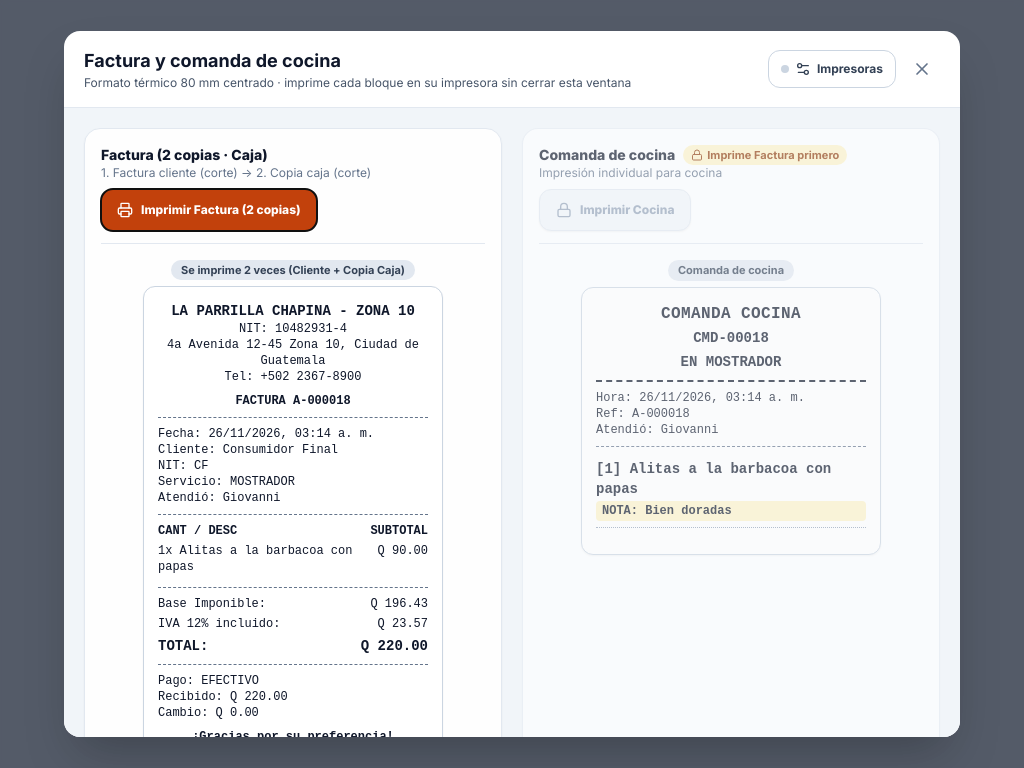
PrintTicketsModal (botones individuales Caja/Cocina y agente local) › muestra Factura (2 copias) sin comanda de caja, bloquea Cocina hasta imprimir Factura y luego permite imprimir Cocina individual
Expected: the heading "Factura y comanda de cocina" is shown, [84,50,341,71]
Expected: the button "Imprimir Cocina" is disabled, [539,189,692,231]
Click the button "Imprimir Factura (2 copias)".
click(209, 210)  # box [101,189,317,231]
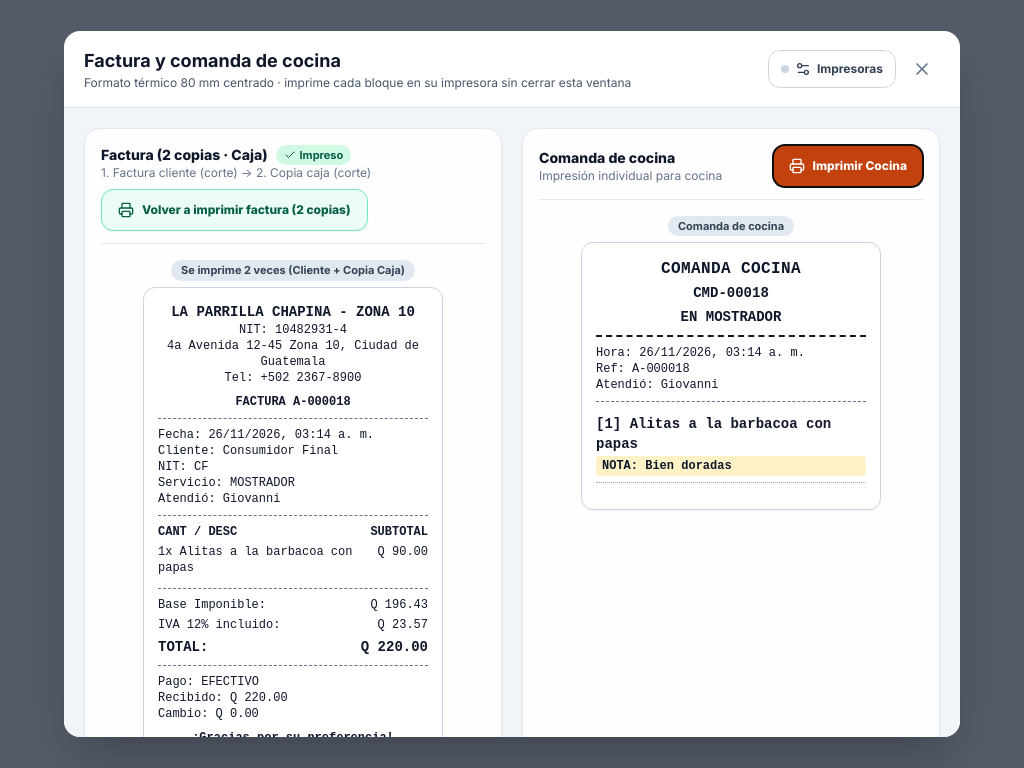
Result: the text "Impreso" is shown at [276,145,351,165]
Result: the button "Imprimir Cocina" is enabled
Click the button "Imprimir Cocina".
click(848, 166)  # box [772,145,923,187]
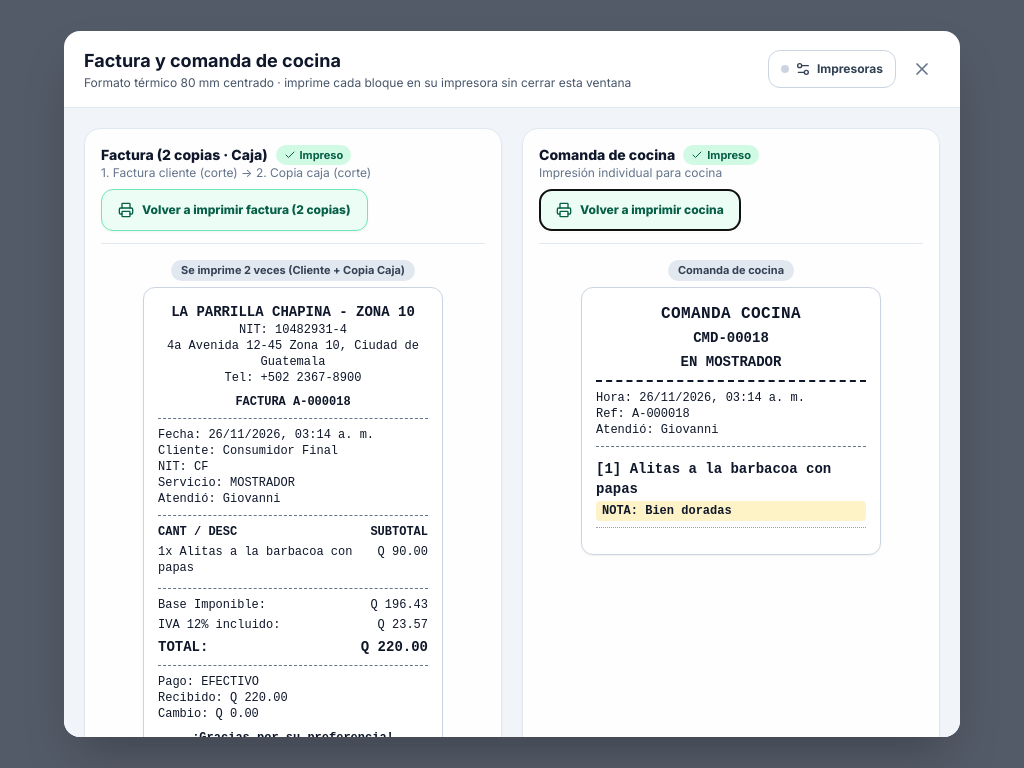
Result: the text "Impreso" is shown 2 times at [276,145,351,165]; [683,145,759,165]
